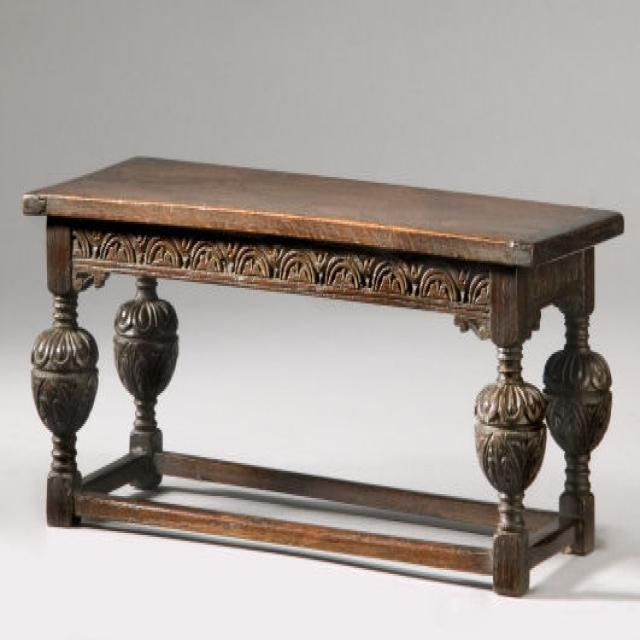table: (21, 153, 624, 602)
